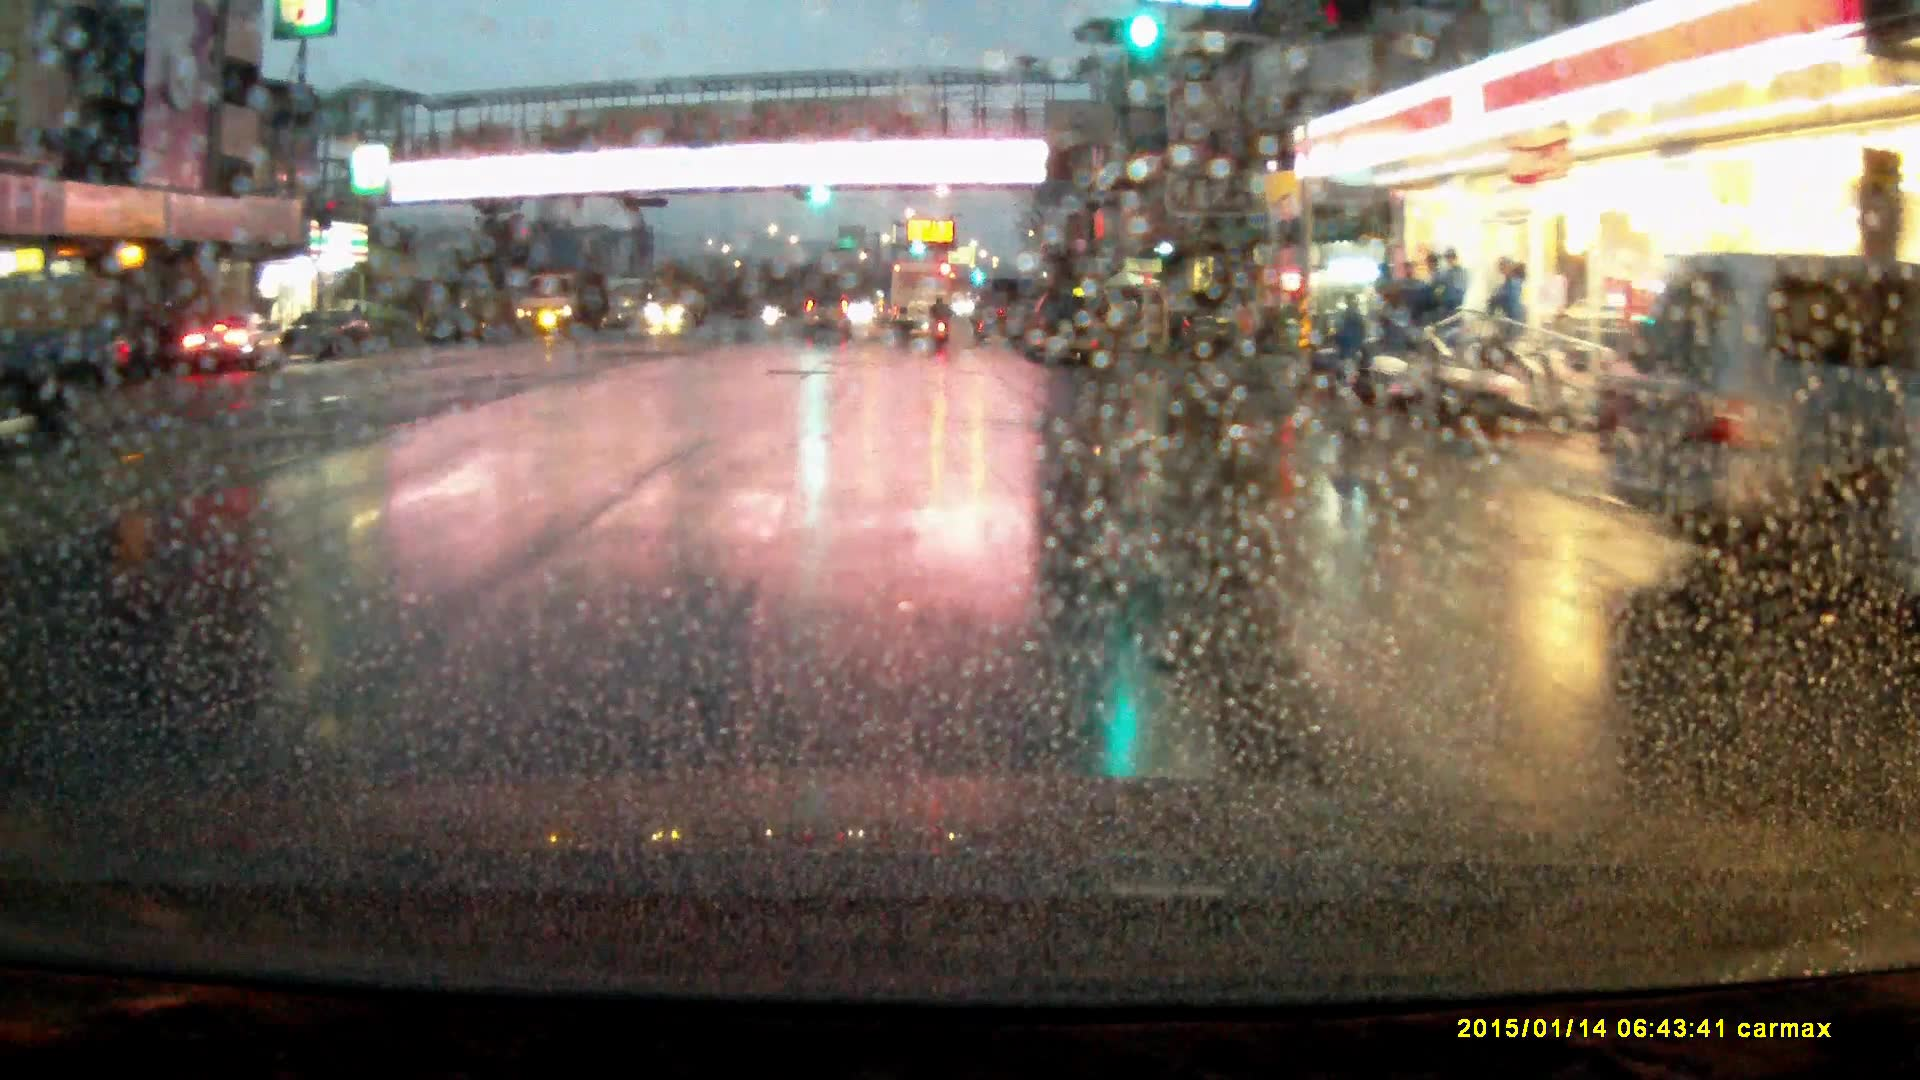rider: (929, 294, 956, 349)
vehicle: (1608, 247, 1920, 582), (1, 275, 125, 434), (513, 270, 608, 338), (178, 314, 285, 373), (1027, 291, 1100, 369), (278, 310, 380, 364), (1174, 297, 1258, 359), (891, 258, 951, 341), (802, 296, 856, 344), (654, 283, 710, 329)
